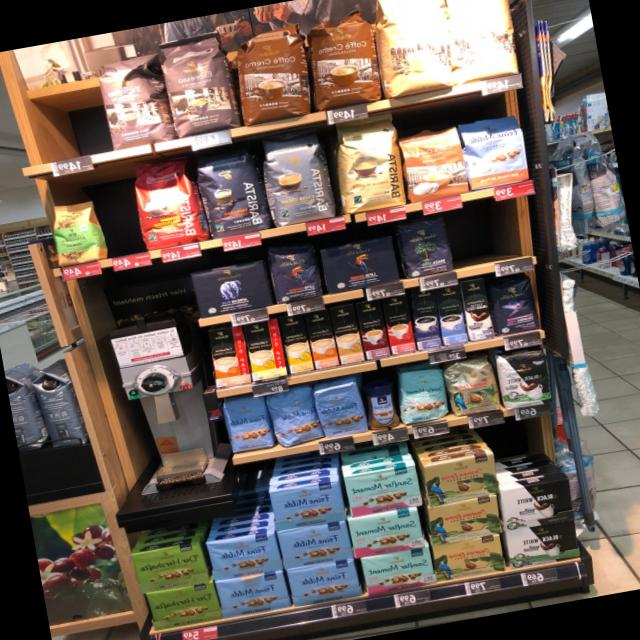AB Gemahlen: (190, 259, 272, 319)
Athiopien Bohne: (46, 195, 106, 268)
BM Bohne: (394, 212, 456, 278)
BW Bohne: (492, 346, 556, 412)
BW Gemahlen: (496, 477, 576, 531), (502, 518, 580, 570)
Barista CB: (324, 111, 410, 217)
Barista CC: (256, 122, 340, 228)
Barista Espresso: (192, 142, 270, 240)
Barista Kolumbien: (126, 152, 206, 254)
C Fino Bohne: (487, 274, 542, 336)
CC Mild: (367, 0, 458, 98), (438, 0, 523, 87)
CC Vollmundig: (396, 121, 471, 204)
CC Vollmundig 36 Pads: (227, 18, 321, 128), (301, 3, 388, 114)
Colombia BB Bohne: (442, 354, 502, 418)
Colombia BB Gemahlen: (421, 452, 500, 508), (423, 494, 504, 546), (430, 534, 508, 582)
Empty Shelf: (5, 52, 109, 166), (450, 195, 537, 268), (93, 188, 144, 258)
FM 36 Pads: (457, 110, 531, 192)
FM Bohne: (267, 478, 346, 532), (276, 520, 352, 570), (284, 557, 360, 607), (206, 530, 280, 581), (264, 384, 322, 448), (215, 570, 290, 619), (312, 378, 368, 440), (220, 396, 272, 454)
FM Instant: (362, 380, 402, 432)
Herzhatfe Mundig: (130, 540, 206, 594), (146, 581, 218, 632)
LG Bohne: (264, 238, 324, 306)
LG Gemahlen: (318, 232, 402, 296)
SM Bohne: (393, 365, 451, 425)
SM Gemahlen: (343, 462, 423, 516), (346, 506, 426, 560), (361, 546, 436, 596)
Simo CCMild: (243, 318, 287, 382)
Simo CCMild bigpack: (280, 313, 312, 374)
Simo CCVollmundig: (206, 326, 252, 388)
Simo CCVollmundig bigpack: (306, 308, 338, 370)
Simo Decaff: (331, 303, 364, 365)
Simo Es Brazil: (382, 294, 416, 354)
Simo Es Caramel: (356, 299, 391, 359)
Simo Es Elegant: (459, 276, 494, 342)
Simo Es Kraft: (408, 288, 443, 350)
Simo Es Vanilla: (434, 284, 468, 345)
